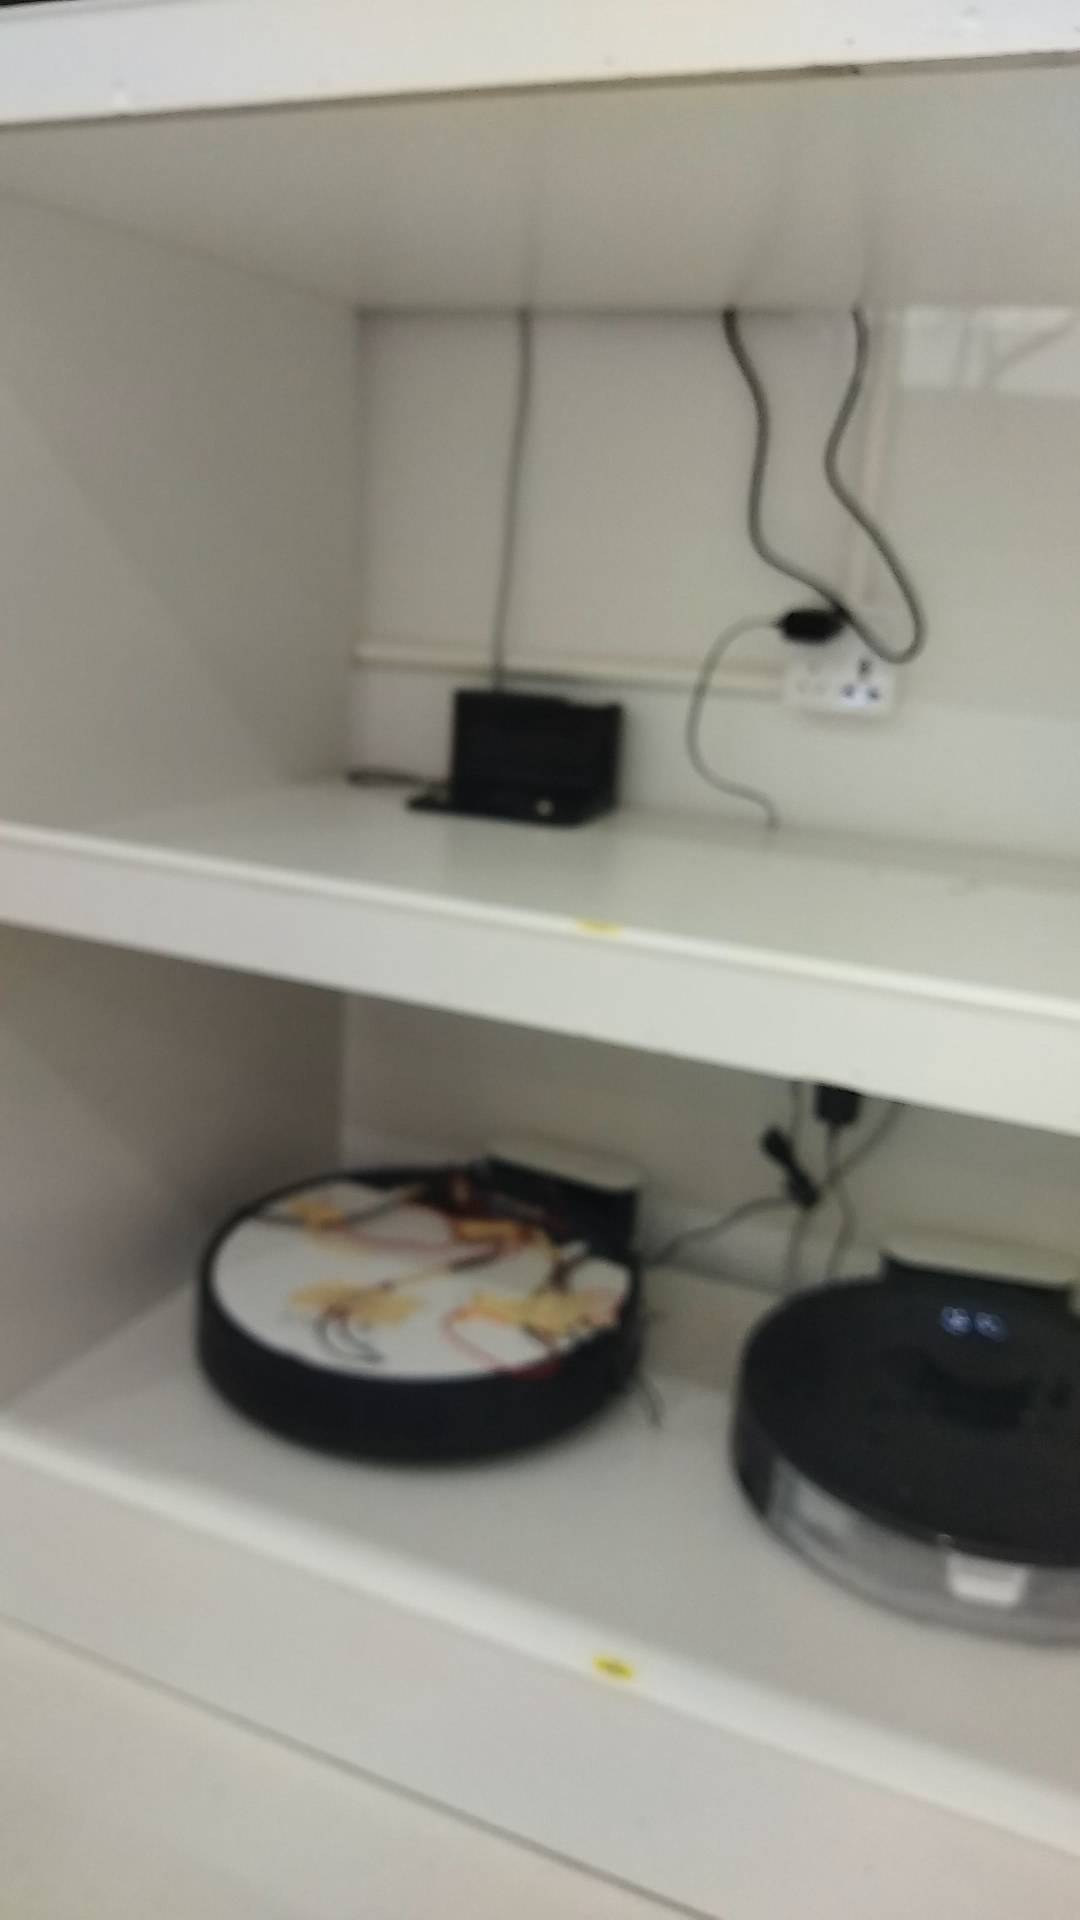recharge seat: (405, 684, 620, 831), (489, 1134, 651, 1254), (880, 1218, 1080, 1309)
